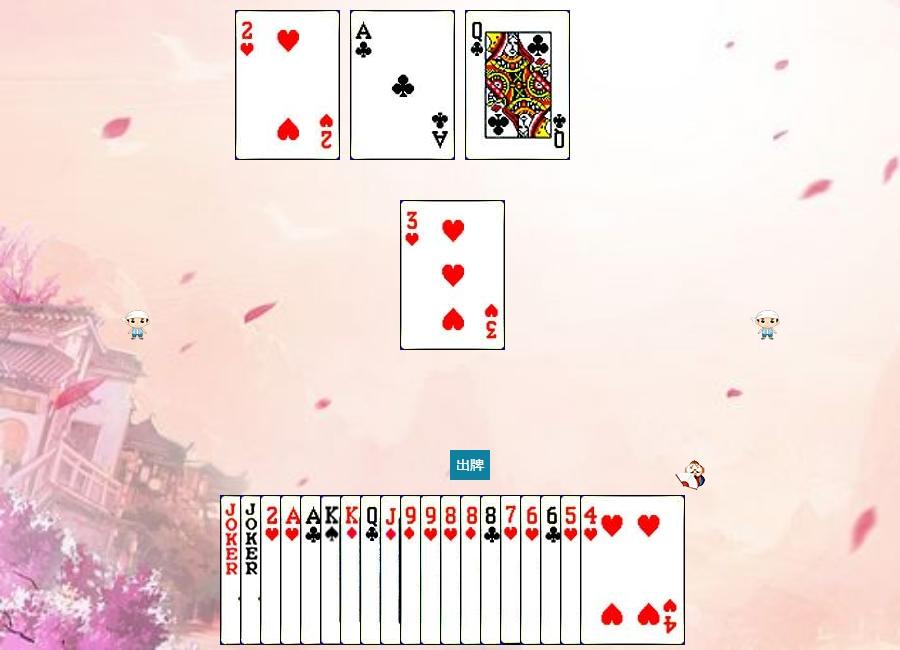11~1: (380, 495, 485, 645)
12~2: (465, 10, 570, 160), (360, 495, 465, 645)
13~1: (340, 495, 445, 645)
13~4: (320, 495, 425, 645)
14~2: (350, 10, 455, 160), (300, 495, 405, 645)
14~3: (280, 495, 385, 645)
15~3: (235, 10, 340, 160), (260, 495, 365, 645)
17~3: (240, 495, 345, 645)
18~4: (220, 495, 325, 645)
3~3: (400, 200, 505, 350)
4~3: (580, 495, 685, 645)
5~3: (560, 495, 665, 645)
6~2: (540, 495, 645, 645)
6~3: (520, 495, 625, 645)
7~3: (500, 495, 605, 645)
8~1: (460, 495, 565, 645)
8~2: (480, 495, 585, 645)
8~3: (440, 495, 545, 645)
9~1: (400, 495, 505, 645)
9~3: (420, 495, 525, 645)
